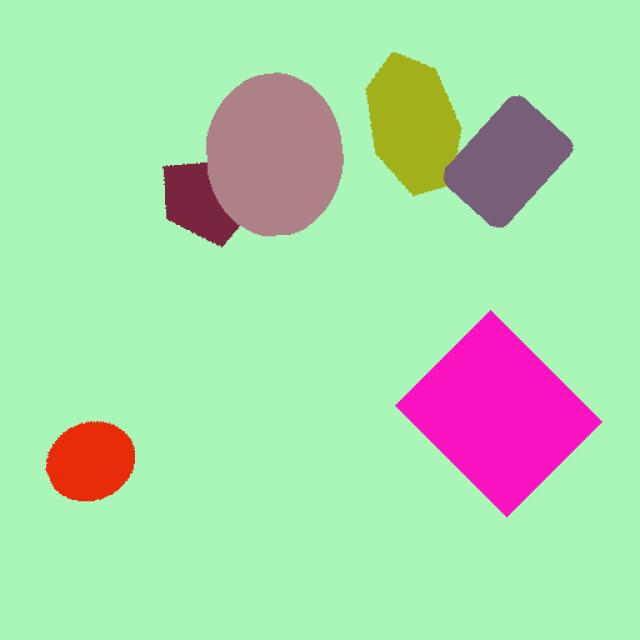Circle: (197, 68, 356, 236), (33, 388, 174, 520)
Heptagon: (370, 43, 466, 199)
Pentagon: (150, 140, 272, 262)
Rectangle: (368, 308, 610, 526), (435, 86, 575, 231)
